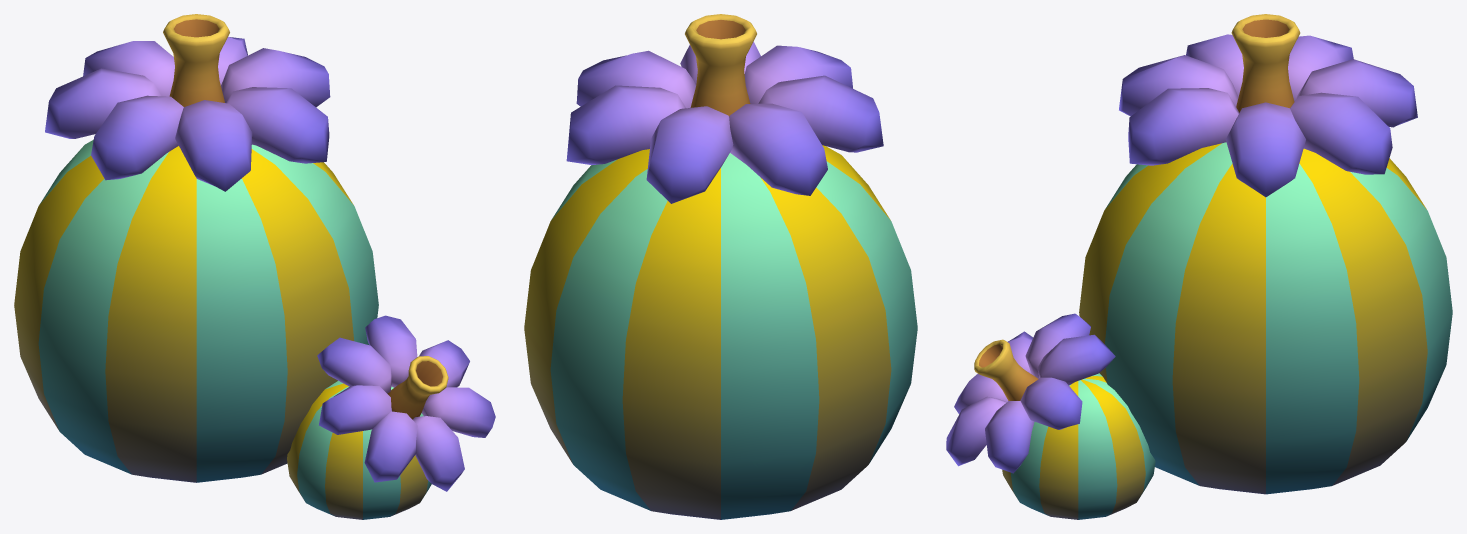
File: anp_PlantFlower_5.fbx
3 renders of one model, left to right at view 1: azimuth 30°, elevation 25°; view 2: azimuth 150°, elevation 25°; view 3: azimuth 270°, elevation 25°, orthographic. The views are drawn at different scales.
Visible parts, largest first — view 1: pf5; view 2: pf5; view 3: pf5.
Boxes of the visible parts, x1=… form: pf5: x1=14, y1=14, x2=495, y2=519; pf5: x1=524, y1=14, x2=917, y2=519; pf5: x1=946, y1=14, x2=1452, y2=519.
Bounding box in the file's own units: 65.49 × 81.65 × 85.43.
